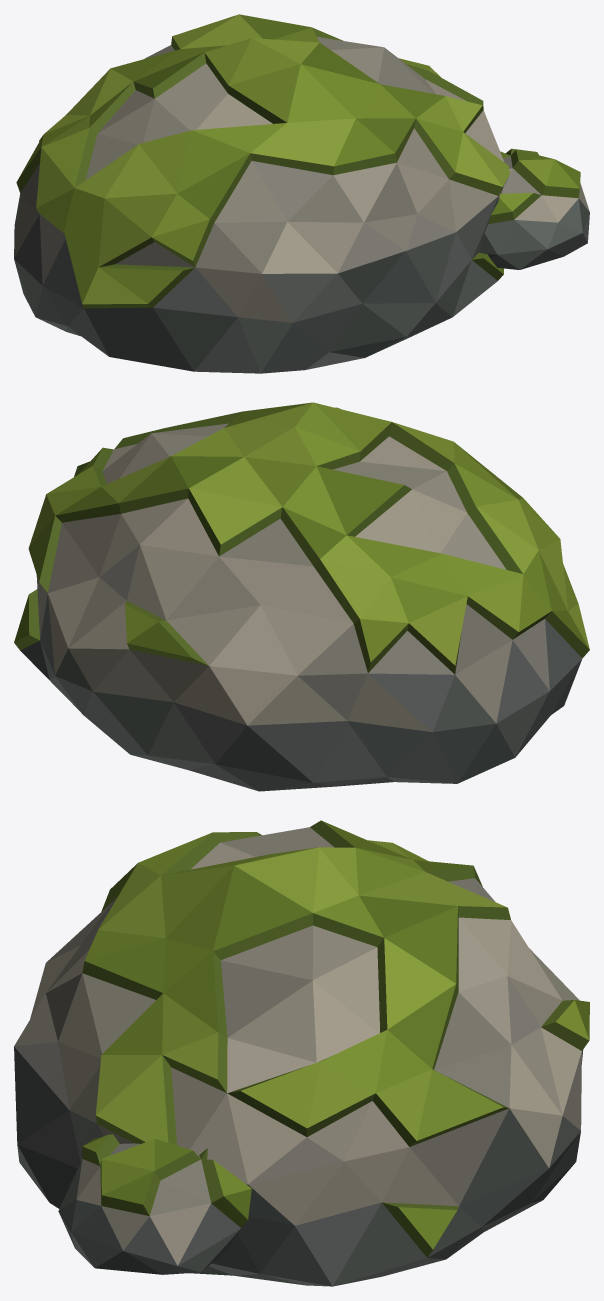
File: river_boulder_large.glb
3 renders of one model, top to bottom at view 1: azimuth 30°, elevation 25°; view 2: azimuth 150°, elevation 25°; view 3: azimuth 270°, elevation 25°, orthographic. The views are drawn at different scales.
Parts seen in each view (by area): view 1: river_boulder_large; view 2: river_boulder_large; view 3: river_boulder_large.
Part boxes in pixels (box(x1,y1,x2,y2)): river_boulder_large: box(14, 14, 589, 373); river_boulder_large: box(14, 402, 589, 791); river_boulder_large: box(14, 820, 589, 1286).
Size of the model in its own units: 4.49 by 2.13 by 3.53.
